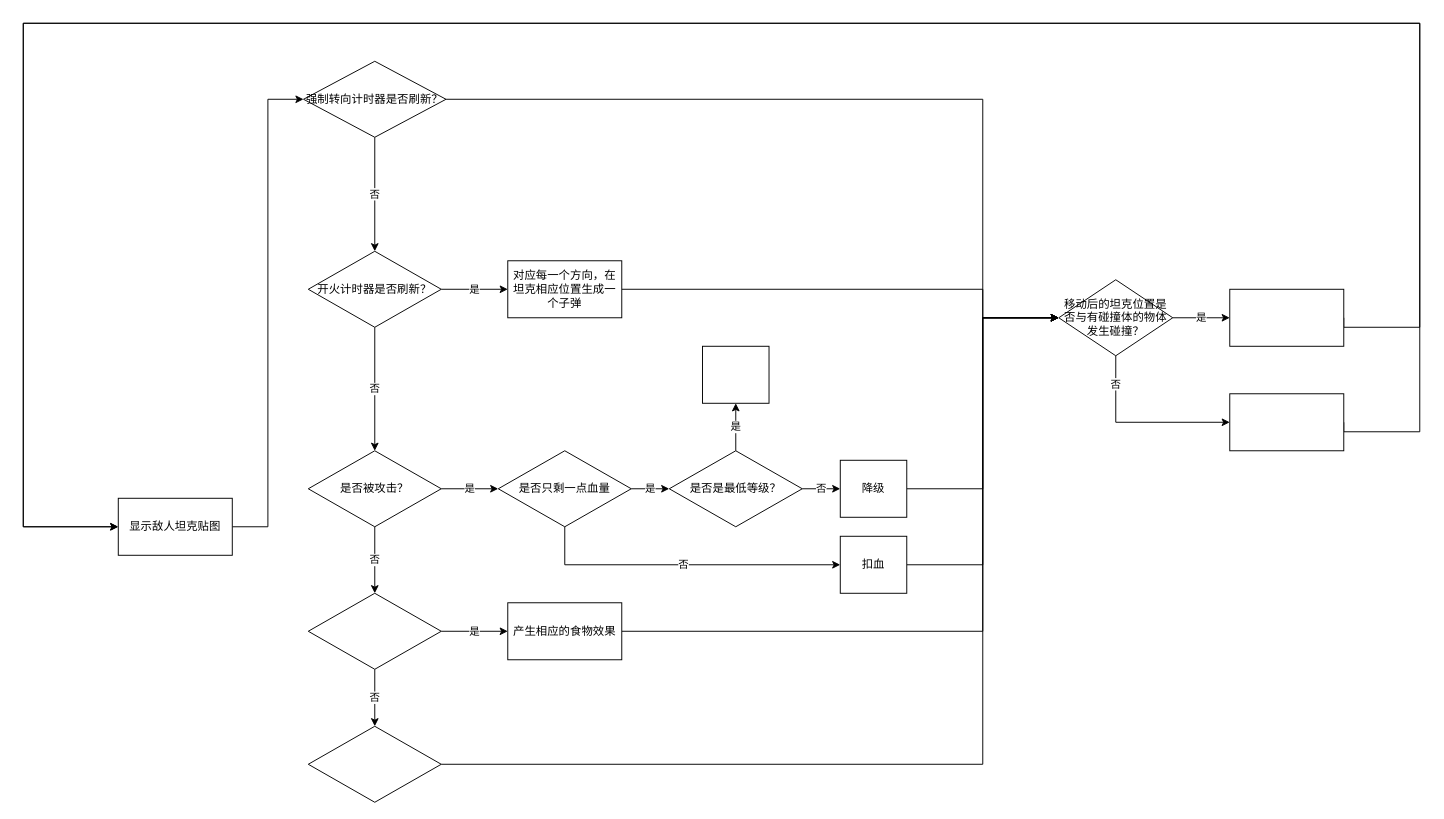
Image size: 1444x819. Some labels were removed from this diagram. Here are the shapes that lost their labels. From the top down, the centre of each, then its label:
the point at 1286,317: 与可碰撞体的发生平滑接触
the point at 735,374: 死亡
the point at 1286,422: 更新坦克位置
the point at 374,630: 是否与食物发生碰撞？
the point at 374,763: 无事件发生
